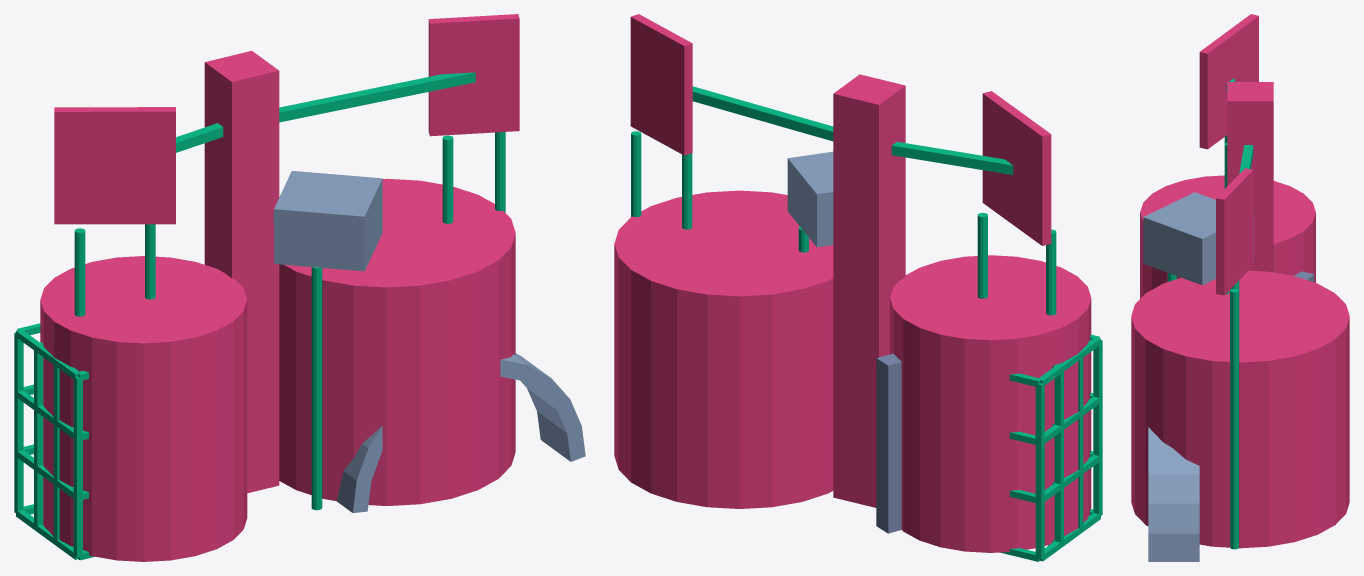
Rendered from folie_tag_082.glb.
The picture shows the model from 3 angles, left to right: view 1: azimuth 30°, elevation 25°; view 2: azimuth 150°, elevation 25°; view 3: azimuth 270°, elevation 25°; orthographic projection. The views are drawn at different scales.
Parts seen in each view (by area): view 1: folie_tag_082_00_drum, folie_tag_082_01_drum, folie_tag_082_core, folie_tag_082_05_panel, folie_tag_082_line, folie_tag_082_08_panel, folie_tag_082_09_block, folie_tag_082_02_cage, folie_tag_082_03_arc; view 2: folie_tag_082_00_drum, folie_tag_082_01_drum, folie_tag_082_core, folie_tag_082_02_cage, folie_tag_082_line, folie_tag_082_05_panel, folie_tag_082_08_panel, folie_tag_082_07_fin, folie_tag_082_09_block; view 3: folie_tag_082_00_drum, folie_tag_082_core, folie_tag_082_01_drum, folie_tag_082_03_arc, folie_tag_082_09_block, folie_tag_082_05_panel, folie_tag_082_08_panel, folie_tag_082_line.
Part boxes in pixels (x1,y1,x2,y2): folie_tag_082_00_drum: (279,178,515,505); folie_tag_082_01_drum: (40,256,247,561); folie_tag_082_core: (204,50,279,493); folie_tag_082_05_panel: (54,107,175,224); folie_tag_082_line: (74,72,505,510); folie_tag_082_08_panel: (428,14,519,136); folie_tag_082_09_block: (274,171,382,271); folie_tag_082_02_cage: (14,323,94,560); folie_tag_082_03_arc: (336,353,585,512); folie_tag_082_00_drum: (614,190,833,508); folie_tag_082_01_drum: (890,255,1091,552); folie_tag_082_core: (833,74,905,507); folie_tag_082_02_cage: (1000,334,1102,561); folie_tag_082_line: (631,86,1056,315); folie_tag_082_05_panel: (982,91,1051,245); folie_tag_082_08_panel: (630,14,692,155); folie_tag_082_07_fin: (876,353,901,533); folie_tag_082_09_block: (787,151,833,247); folie_tag_082_00_drum: (1131,270,1349,548); folie_tag_082_core: (1227,82,1273,272); folie_tag_082_01_drum: (1140,175,1315,298); folie_tag_082_03_arc: (1148,427,1199,561); folie_tag_082_09_block: (1143,192,1253,285); folie_tag_082_05_panel: (1199,14,1258,149); folie_tag_082_08_panel: (1216,168,1253,295); folie_tag_082_line: (1167,78,1253,549).
Size of the model in its own units: 11.34 by 9.33 by 5.2.
